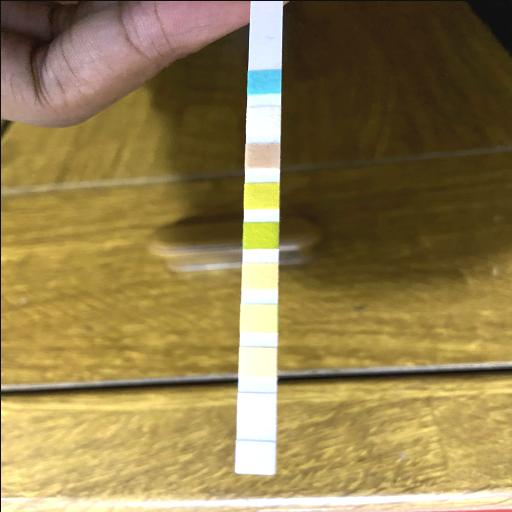Bilirubin: (246, 106, 280, 132)
Blood: (242, 220, 278, 248)
Glucose: (247, 70, 280, 94)
Ketone: (244, 143, 278, 169)
Leukocytes: (235, 442, 273, 472)
Nitrite: (238, 392, 274, 422)
Protein: (240, 304, 276, 332)
SpGravity: (244, 182, 278, 208)
Urobilinogen: (238, 346, 276, 376)
pH: (242, 263, 276, 289)
strip: (235, 24, 281, 473)
